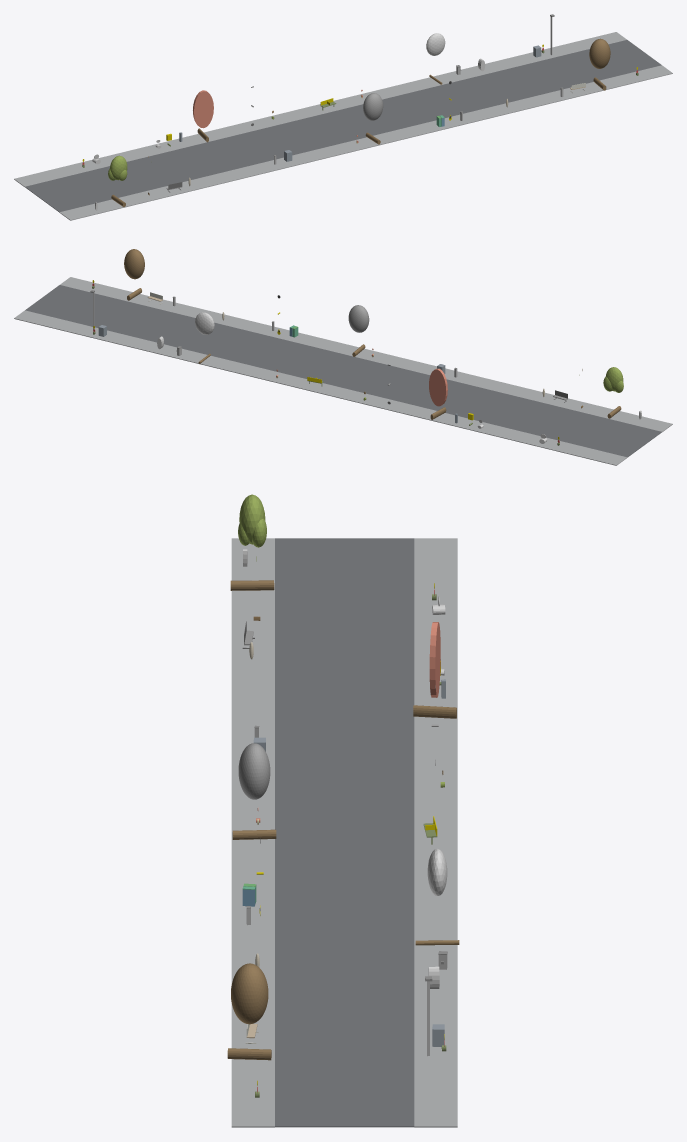
The picture shows the model from 3 angles, top to bottom: view 1: azimuth 30°, elevation 25°; view 2: azimuth 150°, elevation 25°; view 3: azimuth 270°, elevation 25°; orthographic projection. The views are drawn at different scales.
Visible parts, largest first — view 1: road_slab, sidewalk_left, sidewalk_right, inst_0013, inst_0016, inst_0014, inst_0012, inst_0015; view 2: road_slab, sidewalk_right, sidewalk_left, inst_0013, inst_0016, inst_0014, inst_0012, inst_0015; view 3: road_slab, sidewalk_right, sidewalk_left, inst_0016, inst_0014, inst_0012, inst_0013, inst_0015.
Part boxes in pixels (<box>): road_slab: <box>25,40,661,212</box>; sidewalk_left: <box>59,65,672,220</box>; sidewalk_right: <box>14,32,626,186</box>; inst_0013: <box>193,90,213,142</box>; inst_0016: <box>589,38,610,90</box>; inst_0014: <box>363,93,383,144</box>; inst_0012: <box>108,155,127,207</box>; inst_0015: <box>426,33,445,84</box>; road_slab: <box>25,285,661,457</box>; sidewalk_right: <box>14,310,627,465</box>; sidewalk_left: <box>60,277,672,432</box>; inst_0013: <box>429,368,447,419</box>; inst_0016: <box>124,249,144,300</box>; inst_0014: <box>348,305,369,356</box>; inst_0012: <box>603,367,623,418</box>; inst_0015: <box>195,312,214,363</box>; road_slab: <box>275,538,414,1127</box>; sidewalk_right: <box>414,538,457,1127</box>; sidewalk_left: <box>231,538,274,1127</box>; inst_0016: <box>227,963,271,1060</box>; inst_0014: <box>232,743,276,839</box>; inst_0012: <box>230,494,274,590</box>; inst_0013: <box>413,622,456,718</box>; inst_0015: <box>415,848,459,945</box>.
Size of the model in its own units: 80 by 6.08 by 13.32.
